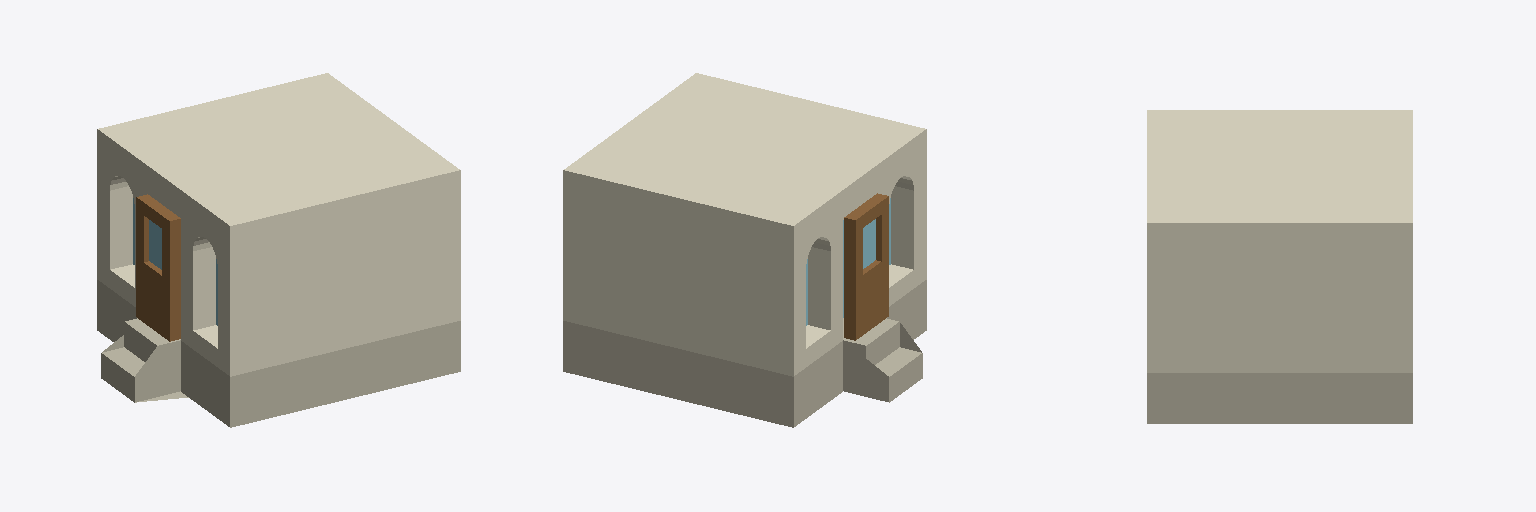
File: modularBuildings_025a.obj
The picture shows the model from 3 angles: view 1: azimuth 30°, elevation 25°; view 2: azimuth 150°, elevation 25°; view 3: azimuth 270°, elevation 25°; orthographic projection.
Parts seen in each view (by area): view 1: Mesh1_Group1_Model.001; view 2: Mesh1_Group1_Model.001; view 3: Mesh1_Group1_Model.001.
Boxes of the visible parts, <box> form: Mesh1_Group1_Model.001: <box>97,73,460,427</box>; Mesh1_Group1_Model.001: <box>563,73,926,427</box>; Mesh1_Group1_Model.001: <box>1147,110,1412,423</box>.
Size of the model in its own units: 1.2 by 0.8375 by 1.